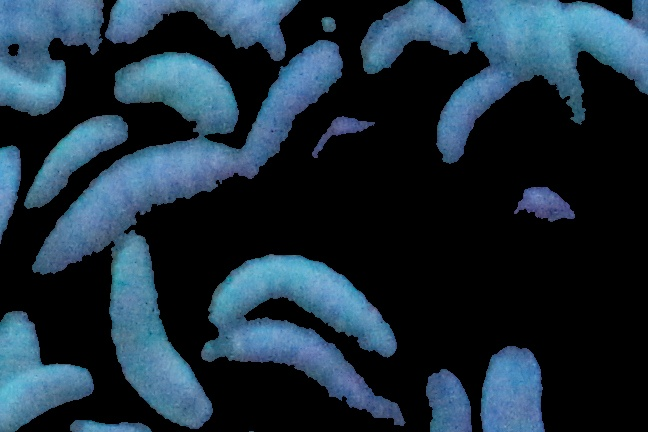larvae: (36, 146, 264, 290), (210, 244, 413, 366), (106, 233, 220, 430), (219, 322, 391, 421), (99, 1, 296, 76), (248, 42, 342, 171), (112, 54, 246, 140), (28, 112, 125, 213), (436, 59, 512, 181), (360, 1, 471, 70), (478, 335, 551, 432), (564, 1, 648, 83), (1, 367, 98, 426), (1, 58, 80, 108), (421, 360, 472, 432), (2, 308, 44, 379)
